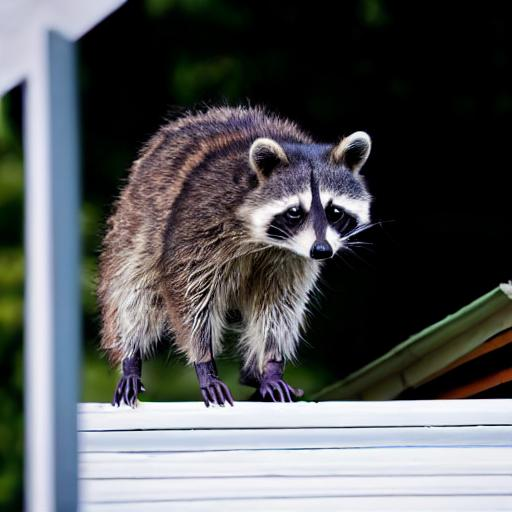raccoon: (92, 98, 383, 381)
